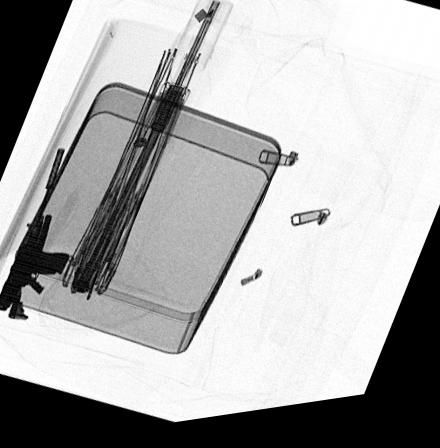Gun: (0, 147, 66, 321)
